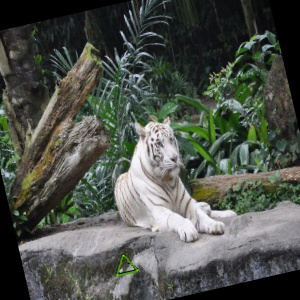triangle: (113, 253, 140, 280)
